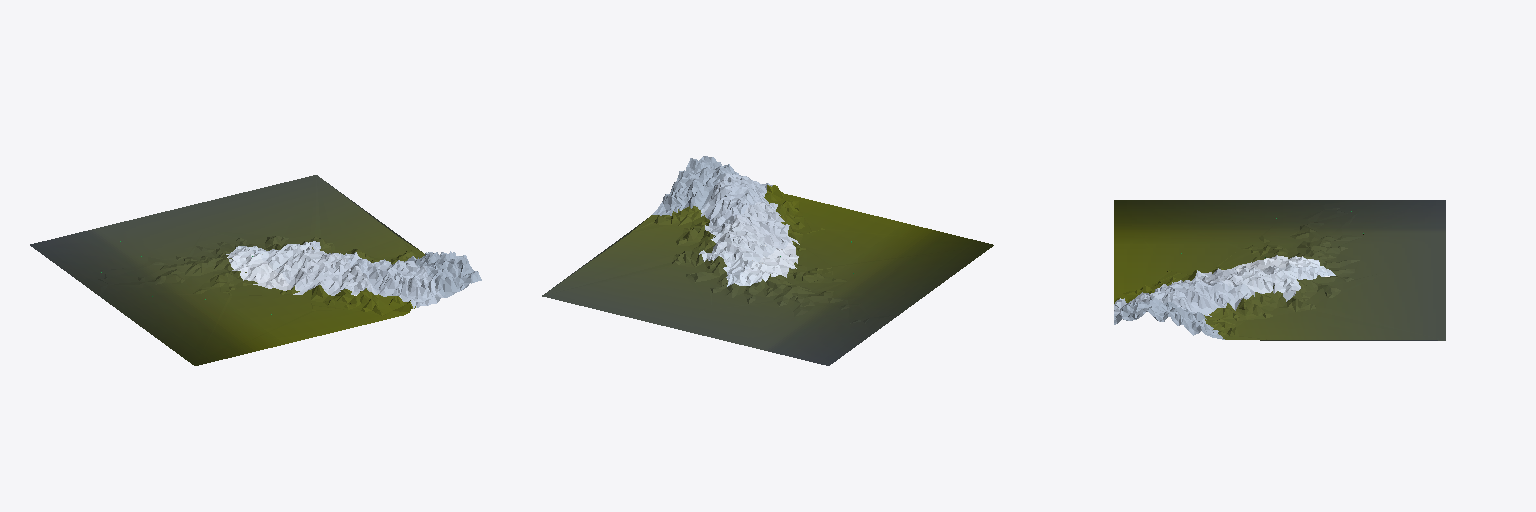
3 renders of one model, left to right at view 1: azimuth 30°, elevation 25°; view 2: azimuth 150°, elevation 25°; view 3: azimuth 270°, elevation 25°, orthographic.
Visible parts, largest first — view 1: default_default_Material.002, default.001_default.001_Material.000; view 2: default_default_Material.002, default.001_default.001_Material.000; view 3: default_default_Material.002, default.001_default.001_Material.000.
Part boxes in pixels (left/top/right/bottom): default_default_Material.002: left=30, top=175, right=424, bottom=365; default.001_default.001_Material.000: left=226, top=241, right=481, bottom=308; default_default_Material.002: left=542, top=185, right=993, bottom=365; default.001_default.001_Material.000: left=652, top=156, right=799, bottom=286; default_default_Material.002: left=1114, top=200, right=1445, bottom=340; default.001_default.001_Material.000: left=1114, top=255, right=1335, bottom=339.
Size of the model in its own units: 5008 by 489 by 5001.
5 materials, 4 textured.